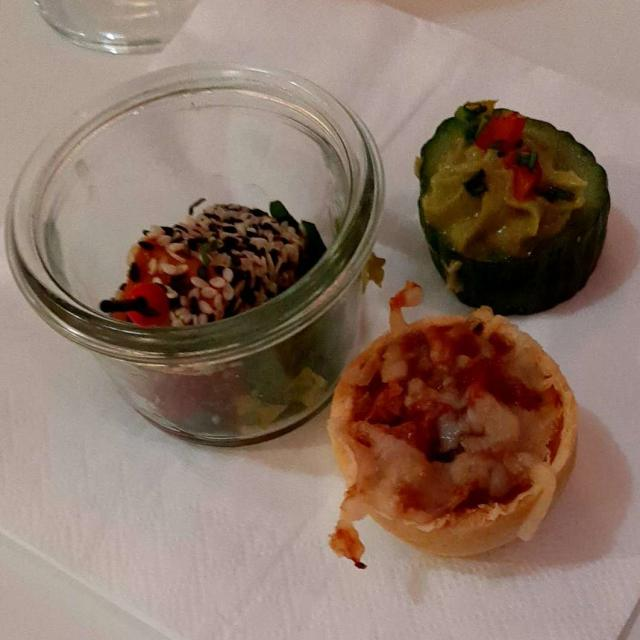cucumber: (415, 99, 626, 304)
guacamole: (433, 120, 574, 254)
sesame-seeds: (151, 205, 302, 341)
